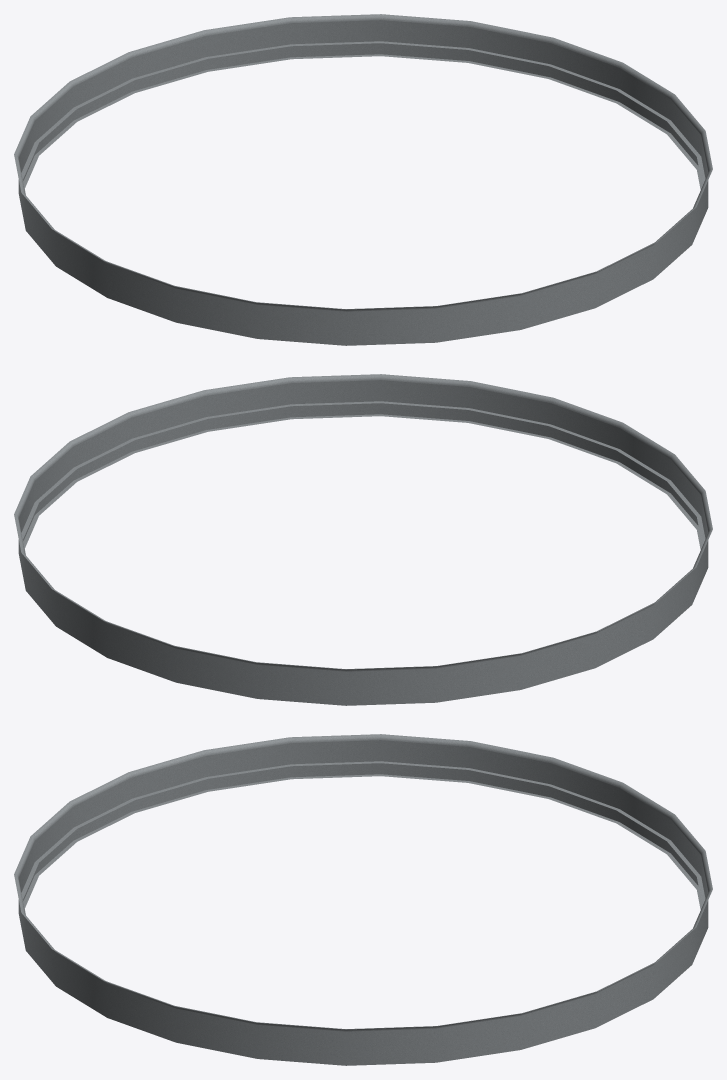
The model's file is original-5.obj.
3 views of the same model, one above another, from view 1: azimuth 30°, elevation 25°; view 2: azimuth 150°, elevation 25°; view 3: azimuth 270°, elevation 25° (orthographic).
Parts seen in each view (by area): view 1: #ID22; view 2: #ID22; view 3: #ID22.
Part boxes in pixels (box(x1,y1,x2,y2)): #ID22: box(14, 14, 712, 345); #ID22: box(14, 374, 712, 705); #ID22: box(14, 734, 712, 1065).
Bounding box in the file's own units: 1.19 × 0.0716 × 1.19.
